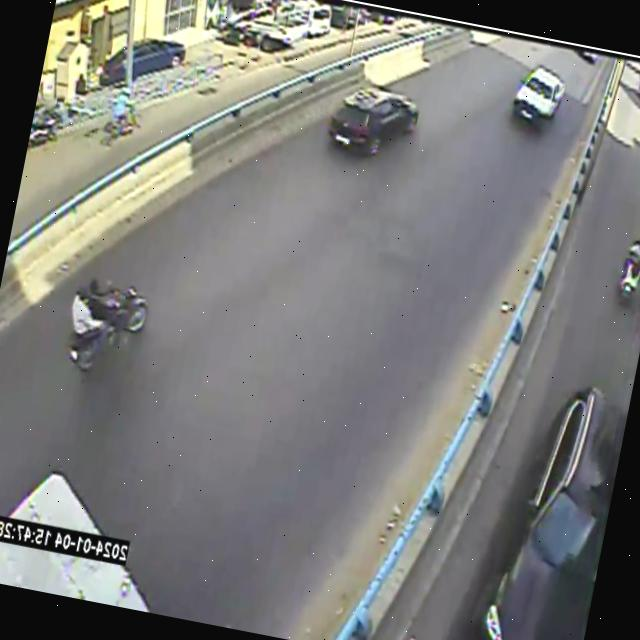car: (133, 39, 186, 80), (133, 39, 185, 80), (99, 48, 127, 86), (99, 48, 127, 85)
